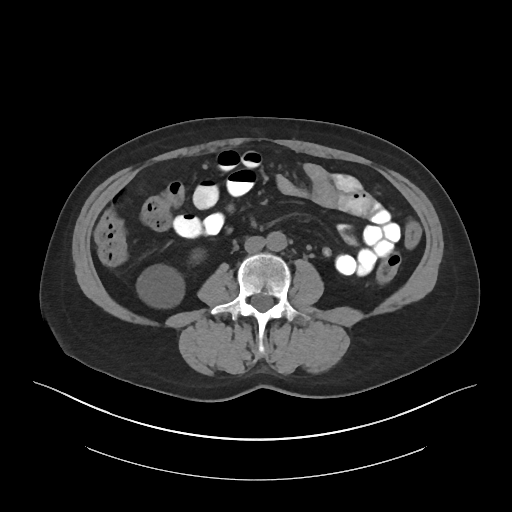Lesion: (133, 260, 186, 312)
